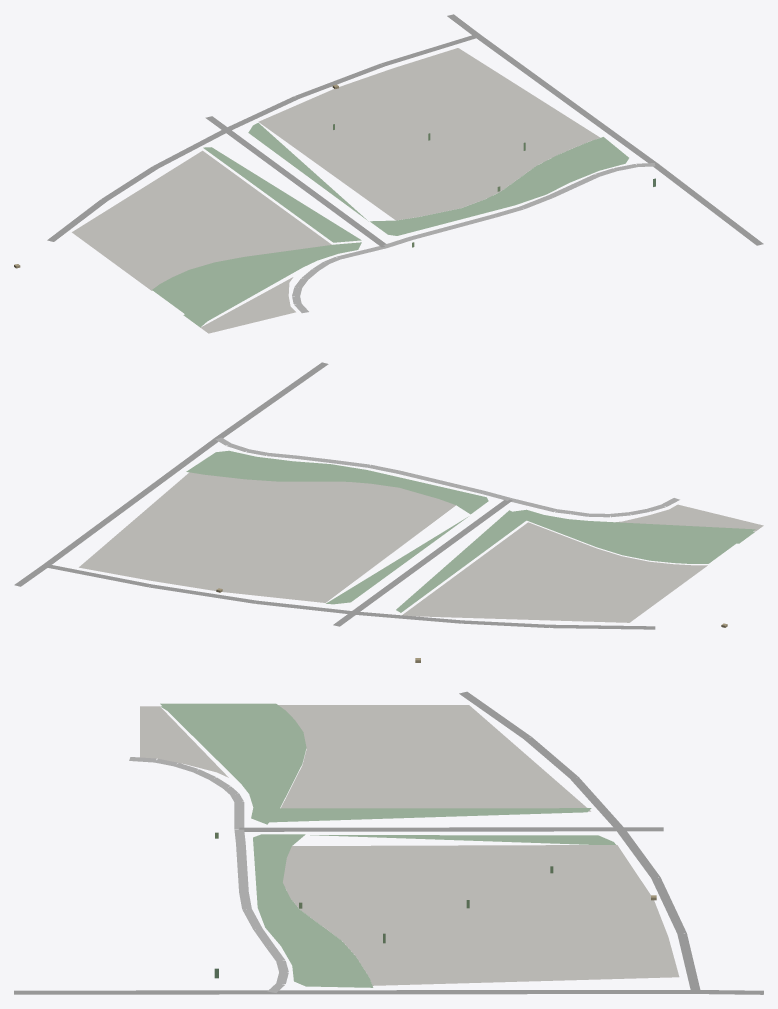
The picture shows the model from 3 angles, top to bottom: view 1: azimuth 30°, elevation 25°; view 2: azimuth 150°, elevation 25°; view 3: azimuth 270°, elevation 25°; orthographic projection. The views are drawn at different scales.
Size of the model in its own units: 579 by 14.34 by 537.
